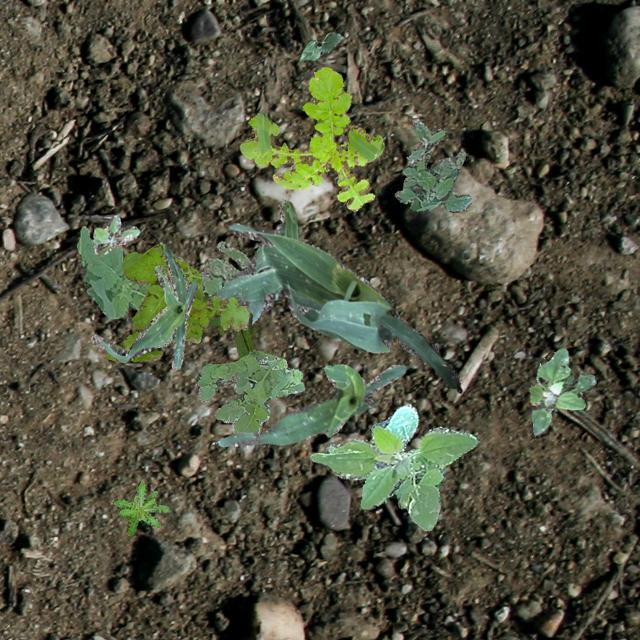crop: (205, 198, 460, 392), (308, 402, 476, 530), (216, 364, 404, 446), (90, 245, 196, 368), (298, 31, 342, 60)
weed: (238, 66, 384, 210), (104, 244, 252, 360), (75, 225, 248, 318), (195, 348, 304, 434), (394, 118, 471, 212), (528, 346, 594, 434), (202, 296, 256, 356), (112, 480, 168, 534), (92, 214, 138, 256)
